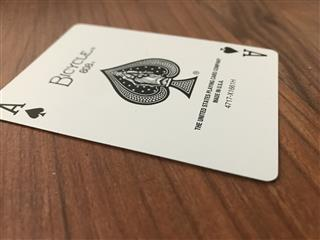AceOfSpades: (1, 22, 278, 181)
